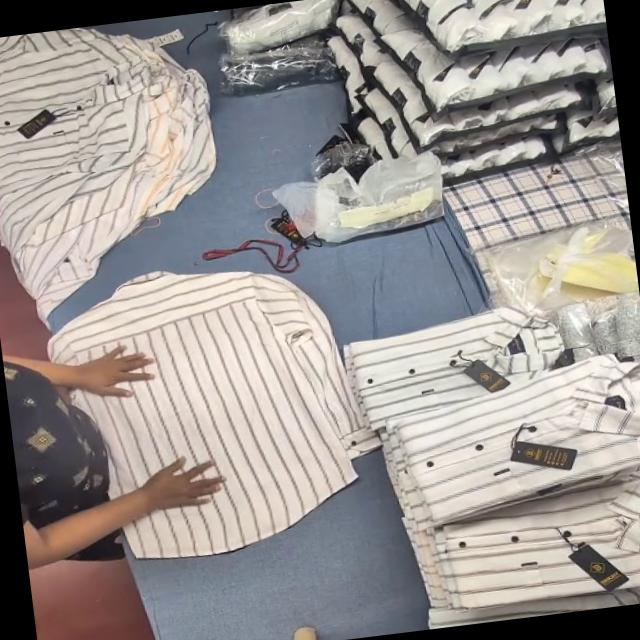new-garment: (50, 272, 375, 557)
